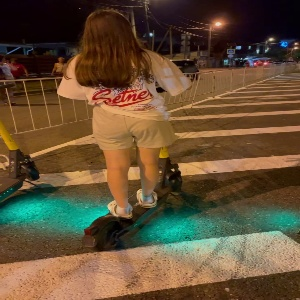human on a scooter: (53, 7, 194, 255)
